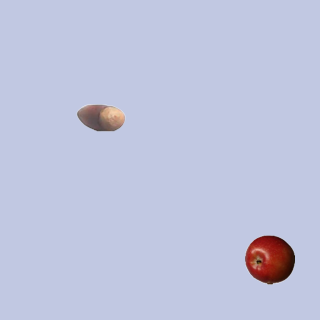Apple Braeburn: (244, 234, 294, 284)
Hazelnut: (75, 92, 125, 142)
